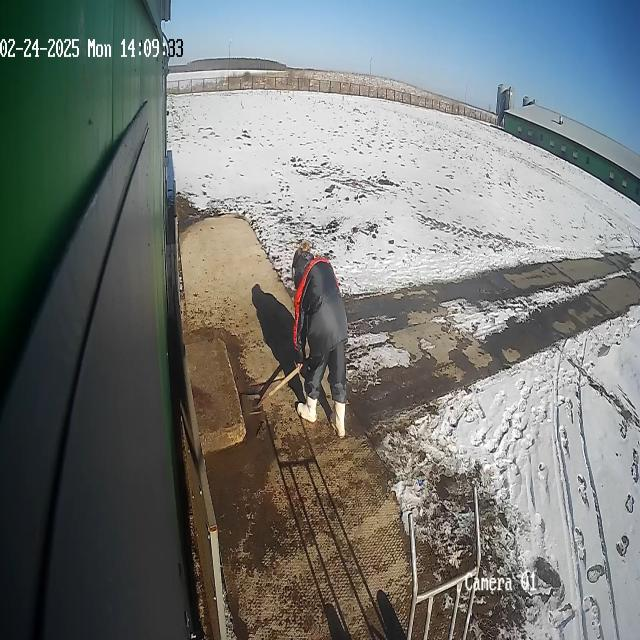Red uniform: (289, 242, 350, 441)
